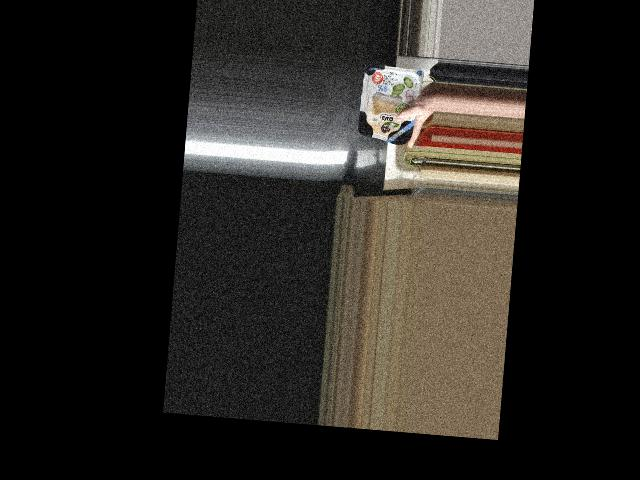cheese: (357, 66, 423, 146)
